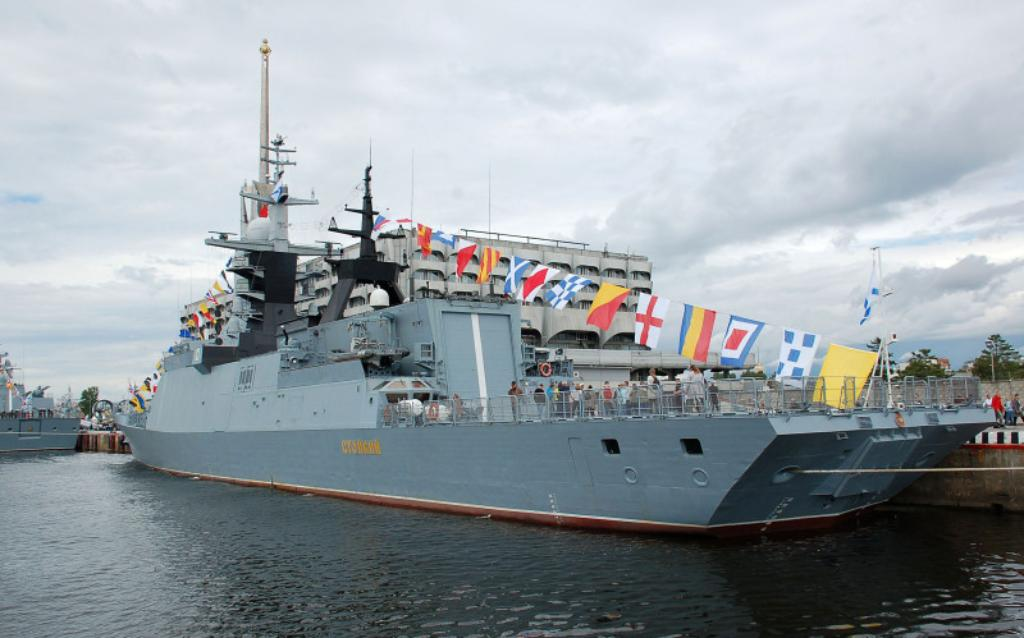Warship: (108, 32, 1000, 540)
